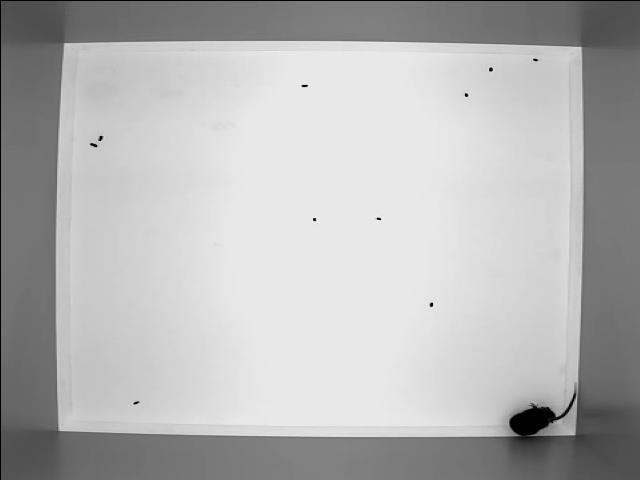Tikus: (505, 383, 581, 440)
